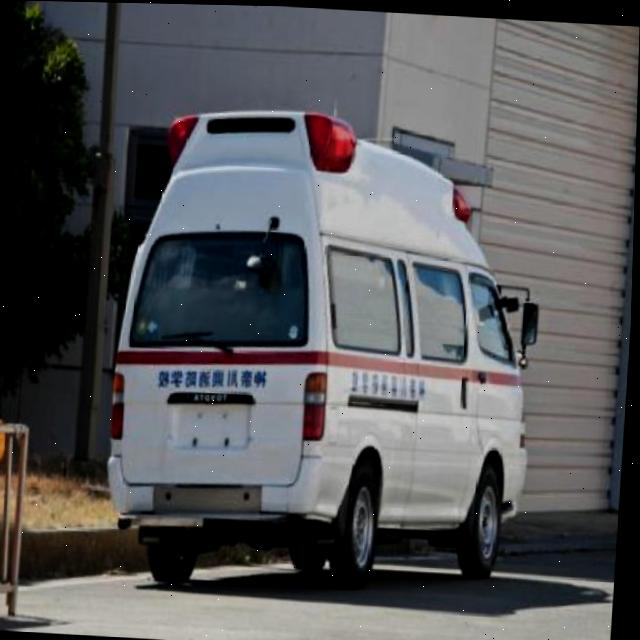emergency: (99, 97, 553, 601)
